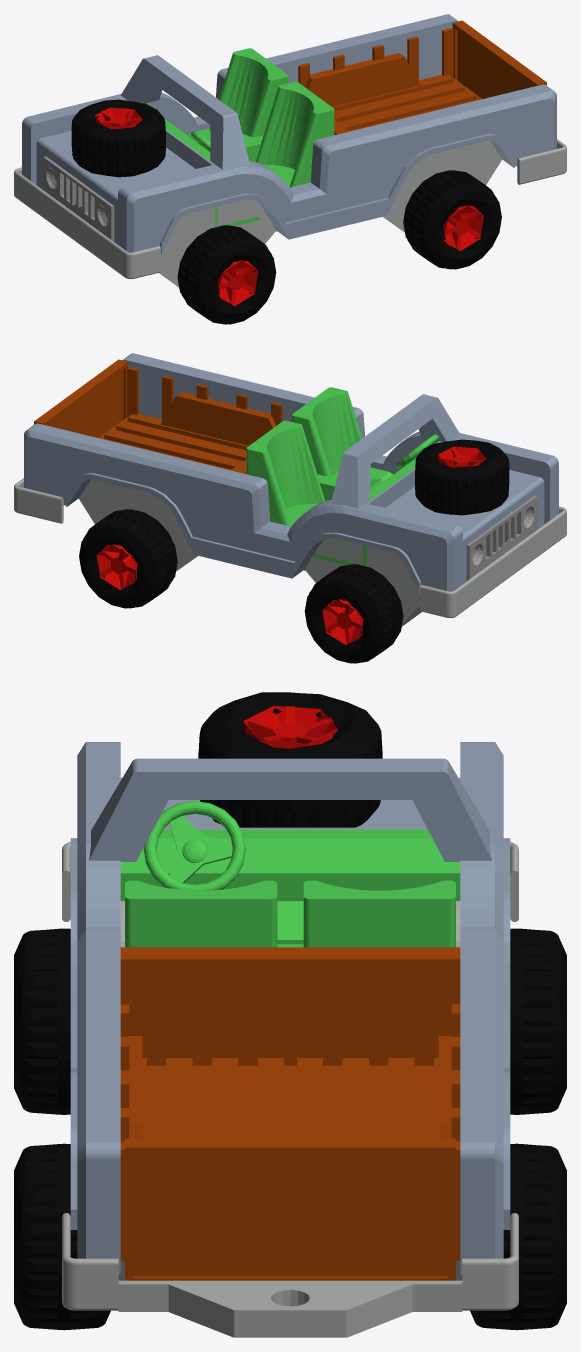
File: cotxe.obj
3 views of the same model, one above another, from view 1: azimuth 30°, elevation 25°; view 2: azimuth 150°, elevation 25°; view 3: azimuth 270°, elevation 25° (orthographic). The views are drawn at different scales.
Parts seen in each view (by area): view 1: Mesh.001_side, Mesh.009_Tires, Mesh.008_Cockpit, Mesh.006_Truck_Bed, Mesh.007_underside, Mesh.004_bump_front, Mesh.002_hood, Mesh.010_Lift_gate, Mesh.003_grill, Mesh.005_Bump_Rear; view 2: Mesh.001_side, Mesh.009_Tires, Mesh.008_Cockpit, Mesh.006_Truck_Bed, Mesh.007_underside, Mesh.004_bump_front, Mesh.002_hood, Mesh.010_Lift_gate, Mesh.003_grill, Mesh.005_Bump_Rear; view 3: Mesh.001_side, Mesh.006_Truck_Bed, Mesh.009_Tires, Mesh.010_Lift_gate, Mesh.008_Cockpit, Mesh.005_Bump_Rear, Mesh.002_hood, Mesh.004_bump_front.
Part boxes in pixels (<box>): Mesh.001_side: <box>22,14,556,254</box>; Mesh.009_Tires: <box>71,99,501,324</box>; Mesh.008_Cockpit: <box>140,48,334,227</box>; Mesh.006_Truck_Bed: <box>298,28,482,135</box>; Mesh.007_underside: <box>159,140,501,287</box>; Mesh.004_bump_front: <box>14,167,160,278</box>; Mesh.002_hood: <box>36,129,213,244</box>; Mesh.010_Lift_gate: <box>452,20,546,98</box>; Mesh.003_grill: <box>43,156,114,241</box>; Mesh.005_Bump_Rear: <box>517,139,566,184</box>; Mesh.001_side: <box>24,353,558,593</box>; Mesh.009_Tires: <box>79,439,509,663</box>; Mesh.008_Cockpit: <box>246,387,452,566</box>; Mesh.006_Truck_Bed: <box>98,367,282,474</box>; Mesh.007_underside: <box>79,479,421,626</box>; Mesh.004_bump_front: <box>420,506,566,617</box>; Mesh.002_hood: <box>367,440,544,583</box>; Mesh.010_Lift_gate: <box>34,359,128,437</box>; Mesh.003_grill: <box>466,495,537,580</box>; Mesh.005_Bump_Rear: <box>14,478,63,523</box>; Mesh.001_side: <box>70,742,510,1273</box>; Mesh.006_Truck_Bed: <box>120,947,460,1260</box>; Mesh.009_Tires: <box>14,692,566,1330</box>; Mesh.010_Lift_gate: <box>125,1138,455,1280</box>; Mesh.008_Cockpit: <box>120,801,460,947</box>; Mesh.005_Bump_Rear: <box>62,1213,518,1337</box>; Mesh.002_hood: <box>120,777,460,829</box>; Mesh.004_bump_front: <box>62,842,518,921</box>.
Size of the model in its own units: 1215 by 457 by 635.
